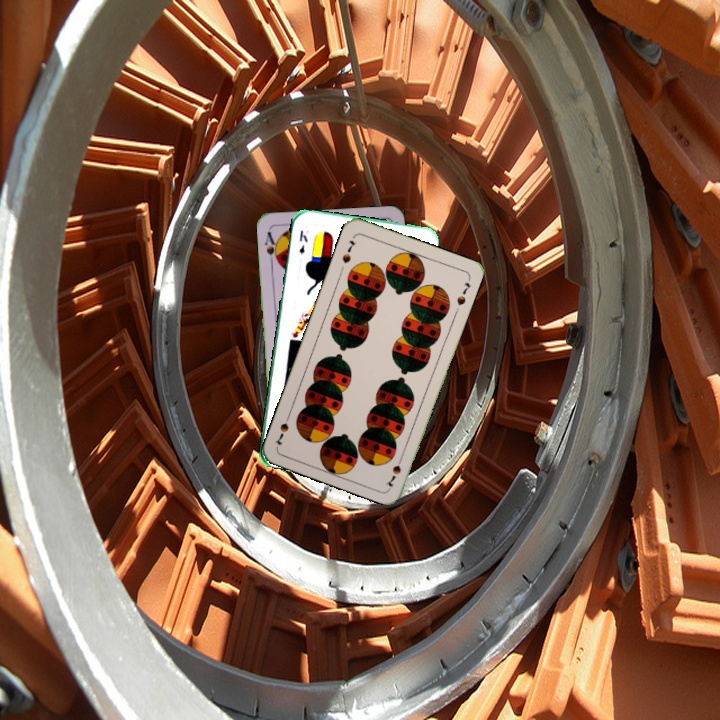EK: (295, 226, 310, 257)
S7: (382, 451, 406, 489), (338, 236, 359, 266)
SA: (261, 228, 281, 267)
